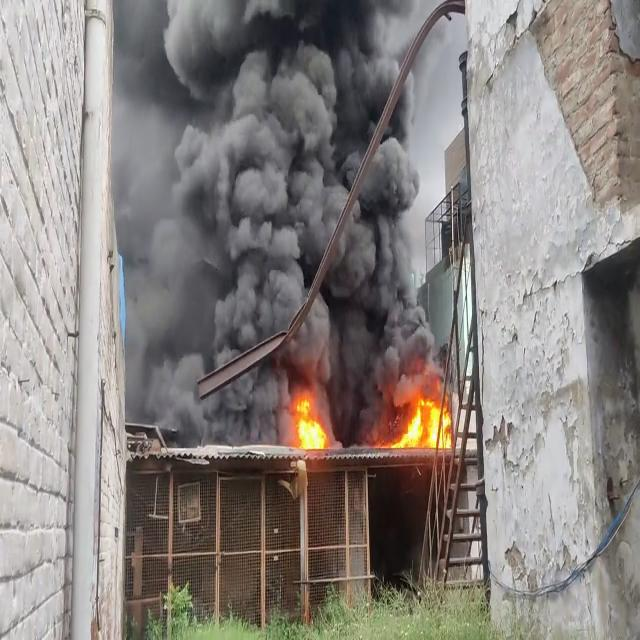Fire: (388, 378, 456, 455), (290, 388, 342, 459)
Smoke: (128, 10, 430, 444)
